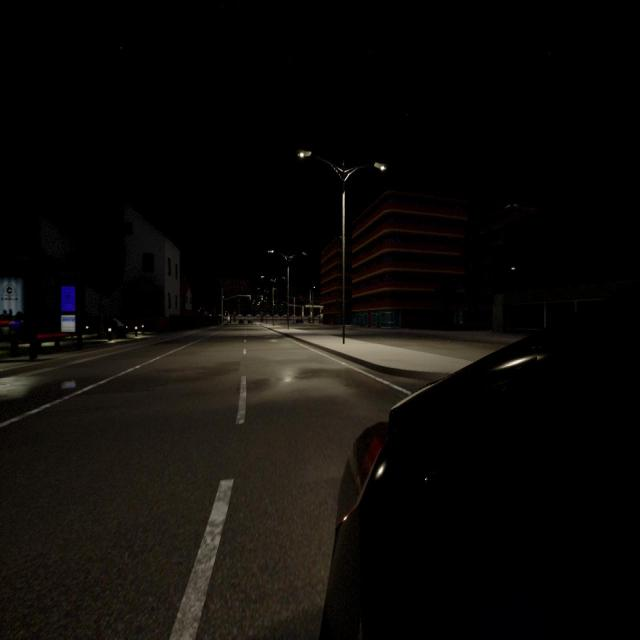Vehicle: (326, 297, 640, 638), (239, 319, 244, 324), (296, 319, 302, 323), (248, 319, 252, 324)
traffic_light: (249, 296, 251, 300), (261, 296, 263, 300)
